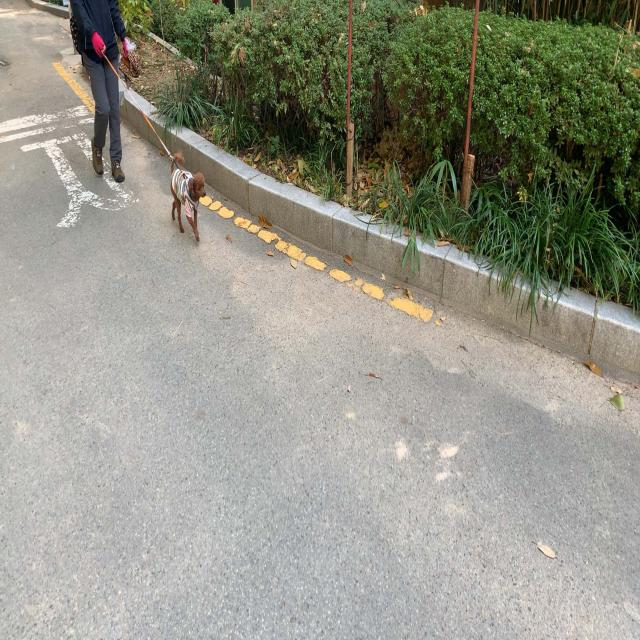Leashed_Dog: (91, 43, 206, 244)
